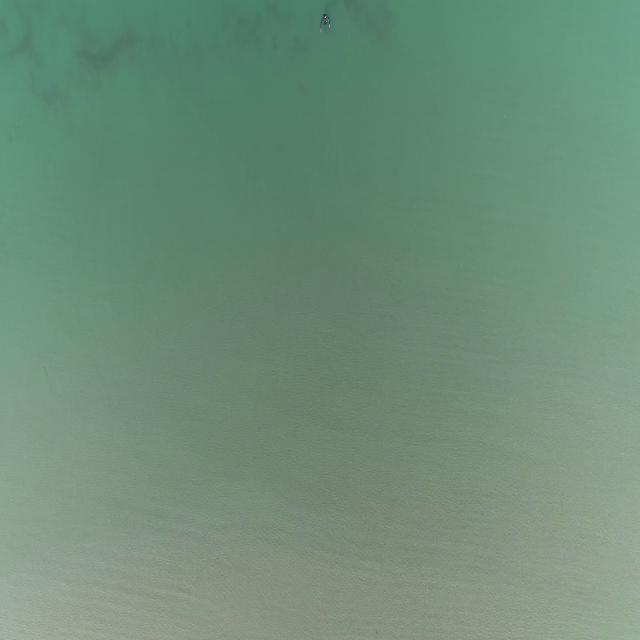person: (320, 12, 332, 32)
